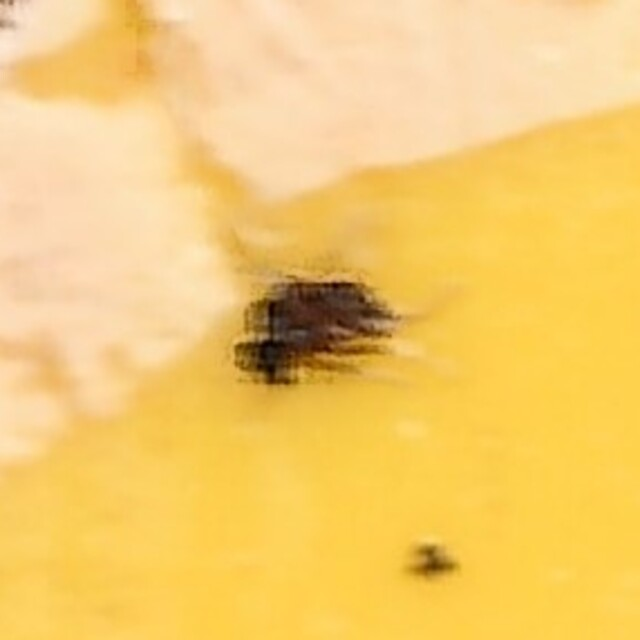Brachycera: (224, 248, 416, 392)
